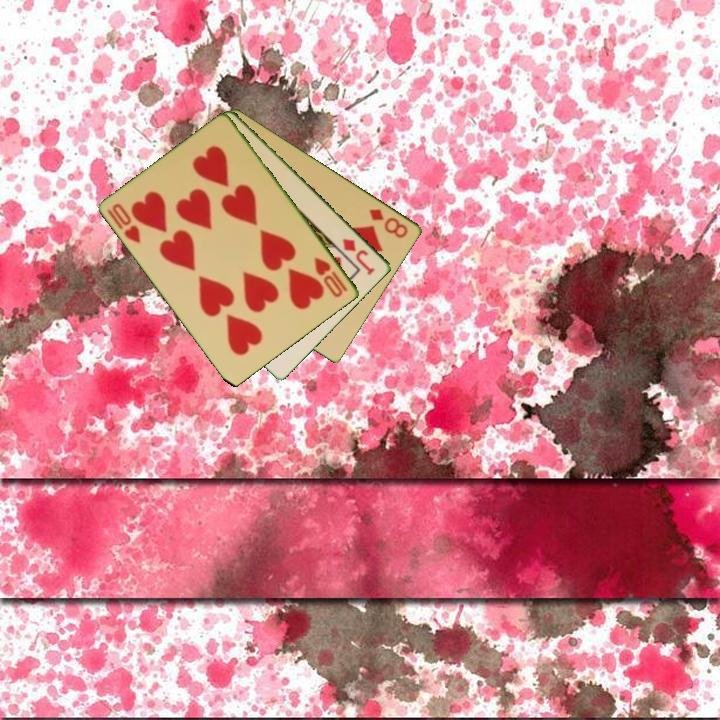10h: (311, 254, 351, 301), (104, 200, 144, 246)
8d: (366, 205, 411, 241)
Jd: (339, 235, 378, 278)
